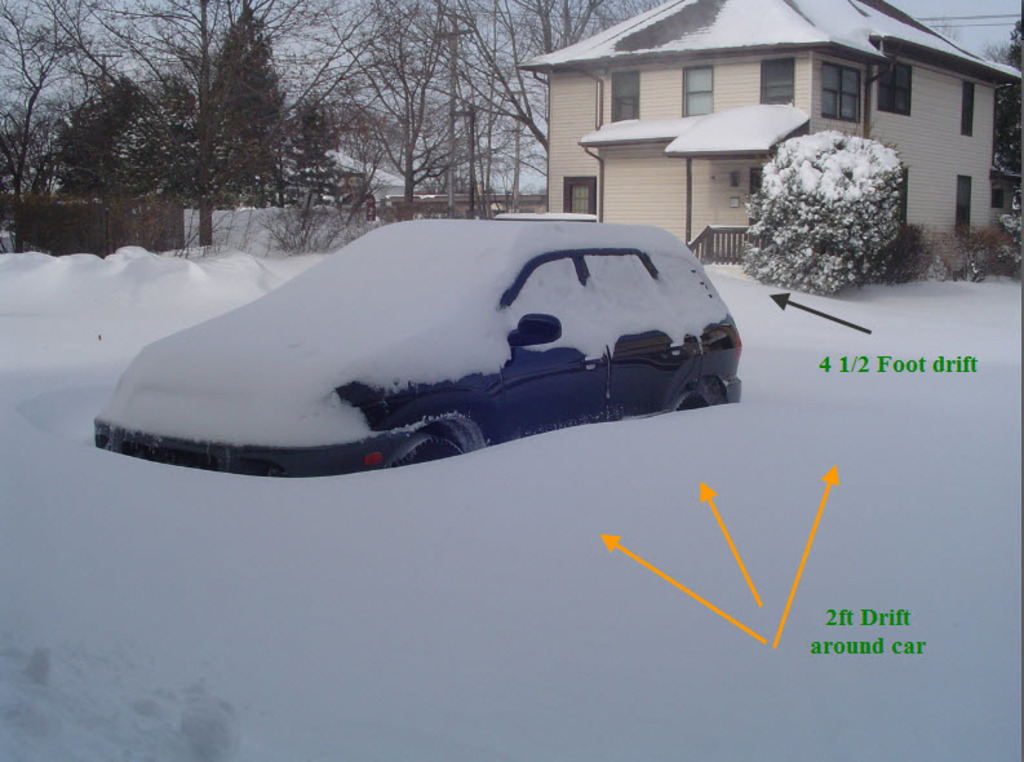Car: (92, 211, 743, 477)
